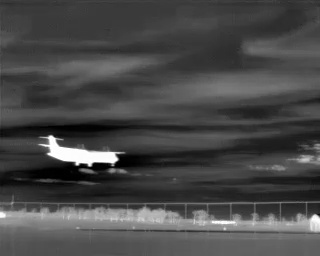AIRPLANE: (153, 142, 233, 174)
